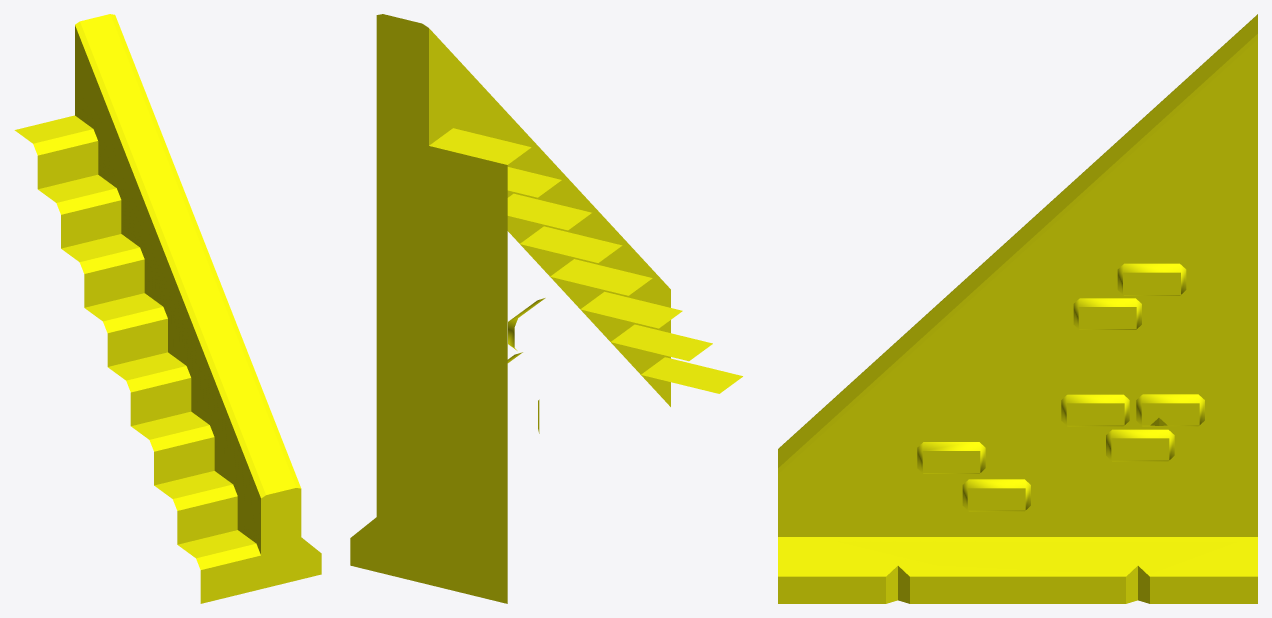
The model's file is kaykit-stairs-modular-right.glb.
The picture shows the model from 3 angles, left to right: view 1: azimuth 30°, elevation 25°; view 2: azimuth 150°, elevation 25°; view 3: azimuth 270°, elevation 25°; orthographic projection. The views are drawn at different scales.
Visible parts, largest first — view 1: stairs_modular_right; view 2: stairs_modular_right; view 3: stairs_modular_right.
Boxes of the visible parts, bbox=[...] form: stairs_modular_right: bbox=[14, 14, 321, 603]; stairs_modular_right: bbox=[350, 14, 742, 603]; stairs_modular_right: bbox=[778, 14, 1257, 603].
Bounding box in the file's own units: 1.5 × 5.1 × 4.
